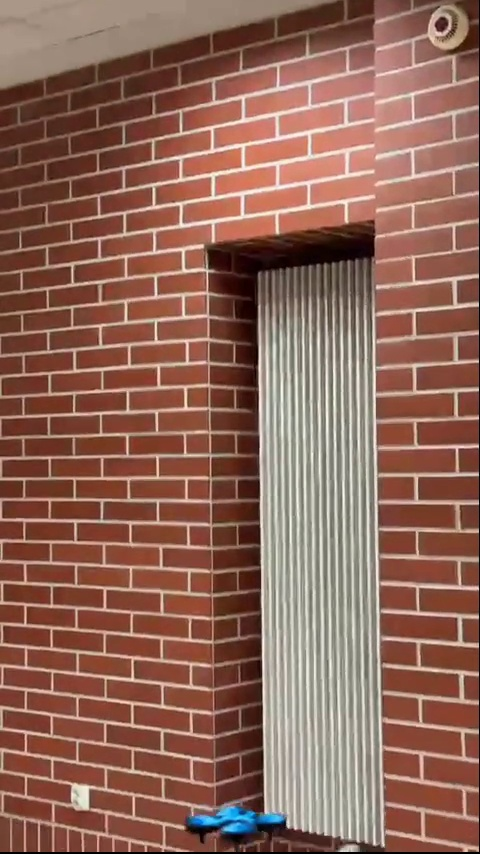drone: (186, 806, 289, 846)
